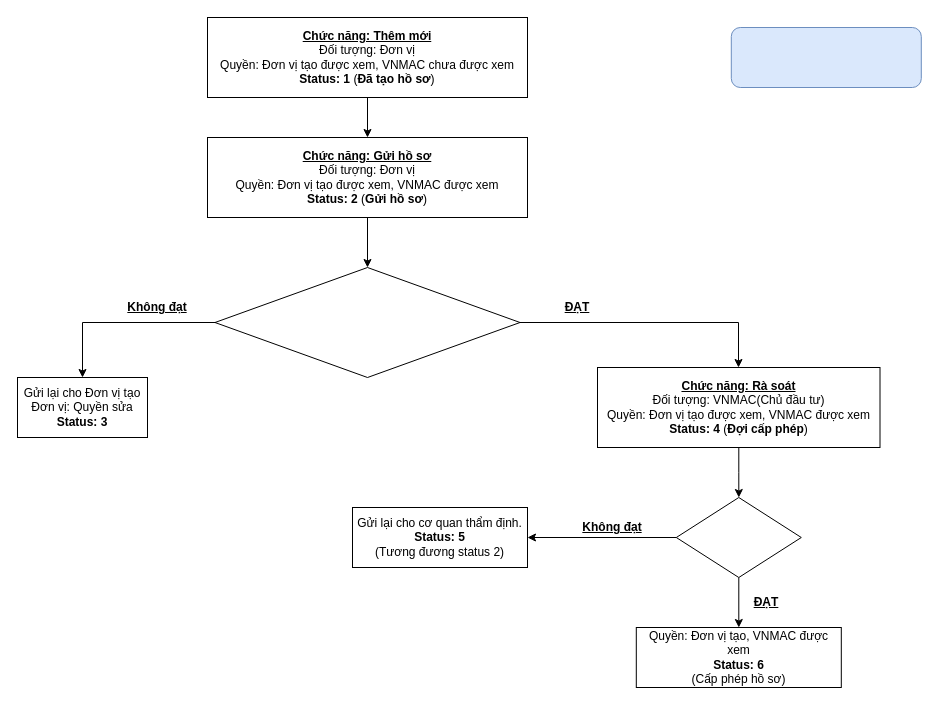
Some shapes in this 939 by 705 pixel diagram are drawn without their labels. The shapes that lost their labels are listed below. From the top down, each one's centre as x and y in pixels, then its label:
point 825,57: 2. THẨM ĐỊNH PHƯƠNG ÁN KỸ THUẬT THI CÔNG,DỰ TOÁN
point 367,322: VNMAC(Cơ quan thẩm định) Thẩm định hồ sơ Quyền: Đơn vị tạo và VNMAC được xem
point 738,537: VNMAC thực hiện
